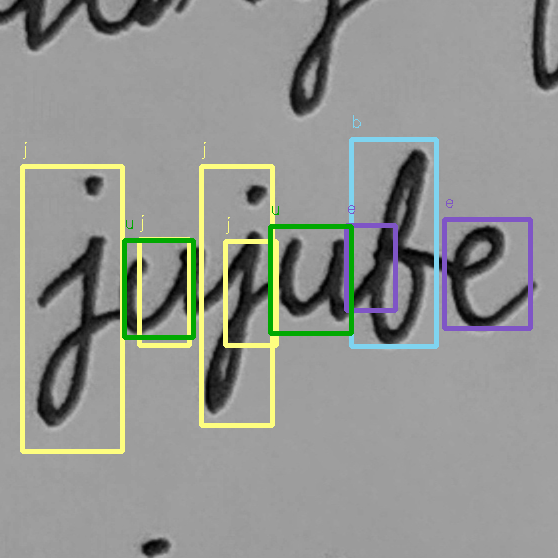b: (357, 142, 436, 349)
e: (444, 218, 543, 333)
j: (28, 170, 116, 437), (199, 178, 272, 418)
u: (116, 237, 209, 338), (274, 230, 355, 330)
